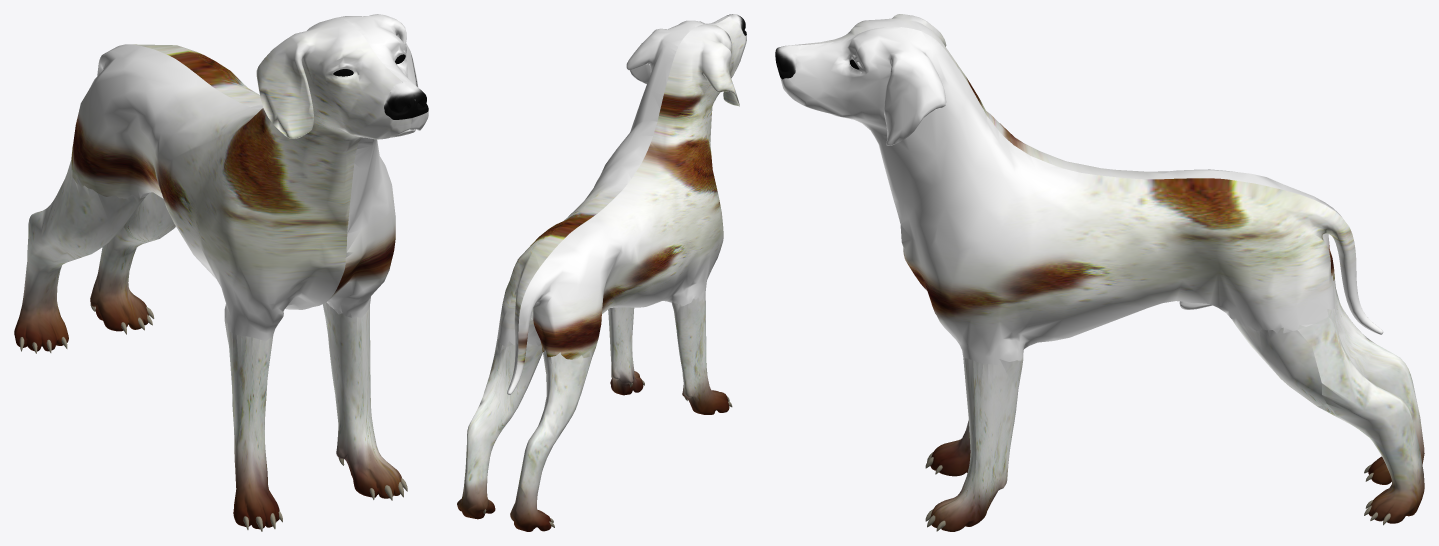
Rendered from Dog.glb.
3 views of the same model, side by side, from view 1: azimuth 30°, elevation 25°; view 2: azimuth 150°, elevation 25°; view 3: azimuth 270°, elevation 25° (orthographic). The views are drawn at different scales.
Visible parts, largest first — view 1: 3DSMeshMatrix; view 2: 3DSMeshMatrix; view 3: 3DSMeshMatrix.
Boxes of the visible parts, x1,y1,x2,y2 form: 3DSMeshMatrix: [14, 14, 428, 531]; 3DSMeshMatrix: [457, 14, 746, 531]; 3DSMeshMatrix: [775, 14, 1424, 531].
Size of the model in its own units: 1368 by 3981 by 4992.
9 materials, 7 textured.
